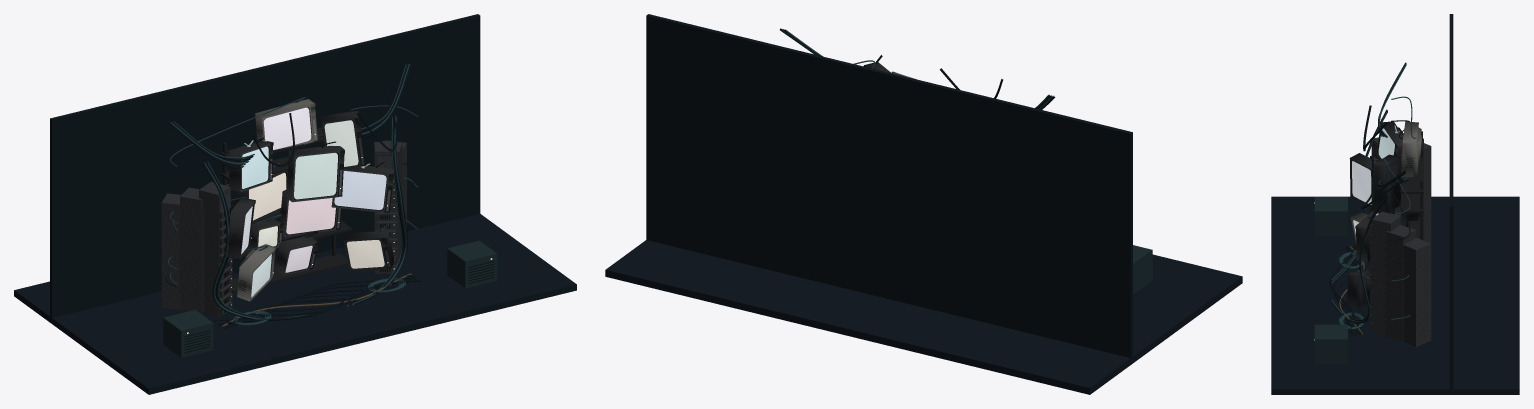
Rendered from screen_wall_model.glb.
The picture shows the model from 3 angles, left to right: view 1: azimuth 30°, elevation 25°; view 2: azimuth 150°, elevation 25°; view 3: azimuth 270°, elevation 25°; orthographic projection. The views are drawn at different scales.
Parts seen in each view (by area): view 1: BackWall, Floor, server-rack_02, server-rack_03, server-rack, ForegroundPowerUnit, _MeshInstance3D_764, Screen7, Screen4, Screen8, Screen2, CC0_CRT_Chassis7 (+16 smaller); view 2: BackWall, Floor, ForegroundPowerUnit; view 3: Floor, server-rack_06, server-rack_05, BackWall, server-rack_04, _MeshInstance3D_764, ForegroundPowerUnit, CC0_CRT_Chassis3, CC0_CRT_Chassis2, server-rack_03, CC0_CRT_Chassis12, Screen5 (+9 smaller).
Part boxes in pixels (left/top/right/bottom): BackWall: left=50, top=14, right=480, bottom=322; Floor: left=14, top=213, right=576, bottom=394; server-rack_02: left=180, top=187, right=202, bottom=313; server-rack_03: left=161, top=193, right=180, bottom=309; server-rack: left=199, top=181, right=230, bottom=317; ForegroundPowerUnit: left=163, top=310, right=213, bottom=357; _MeshInstance3D_764: left=447, top=240, right=497, bottom=288; Screen7: left=294, top=153, right=337, bottom=199; Screen4: left=334, top=171, right=386, bottom=209; Screen8: left=286, top=198, right=335, bottom=234; Screen2: left=263, top=107, right=311, bottom=149; CC0_CRT_Chassis7: left=286, top=145, right=344, bottom=202; BackWall: left=646, top=14, right=1132, bottom=357; Floor: left=605, top=240, right=1242, bottom=394; ForegroundPowerUnit: left=1133, top=245, right=1152, bottom=294; Floor: left=1271, top=196, right=1519, bottom=394; server-rack_06: left=1403, top=237, right=1431, bottom=346; server-rack_05: left=1386, top=225, right=1416, bottom=341; BackWall: left=1449, top=14, right=1453, bottom=393; server-rack_04: left=1372, top=211, right=1400, bottom=335; _MeshInstance3D_764: left=1314, top=324, right=1347, bottom=364; ForegroundPowerUnit: left=1314, top=197, right=1347, bottom=236; CC0_CRT_Chassis3: left=1373, top=154, right=1401, bottom=213; CC0_CRT_Chassis2: left=1401, top=121, right=1422, bottom=176; server-rack_03: left=1424, top=143, right=1431, bottom=243; CC0_CRT_Chassis12: left=1346, top=267, right=1371, bottom=307; Screen5: left=1352, top=161, right=1371, bottom=204.
Size of the model in its own units: 22 by 10.03 by 12.
Materials: 229 (36 with a texture image).
